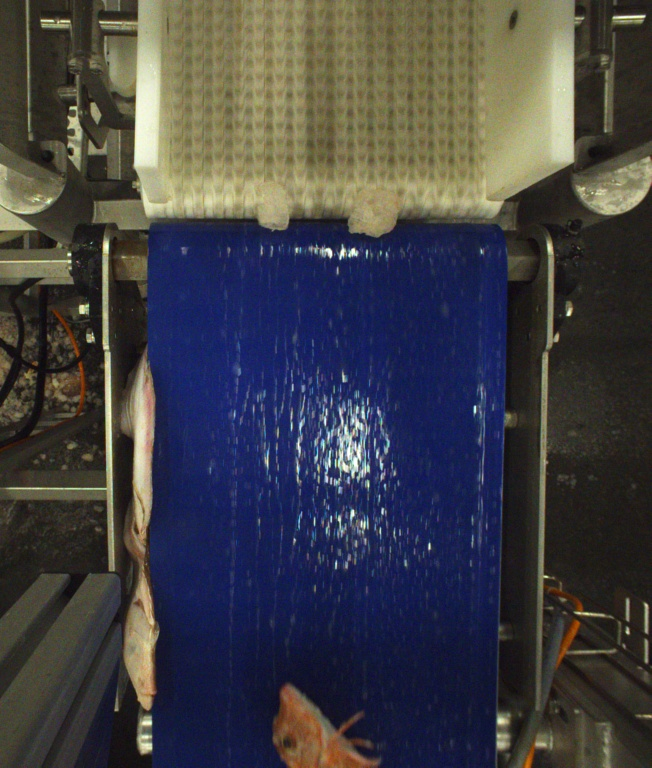GUU: (268, 682, 379, 768)
